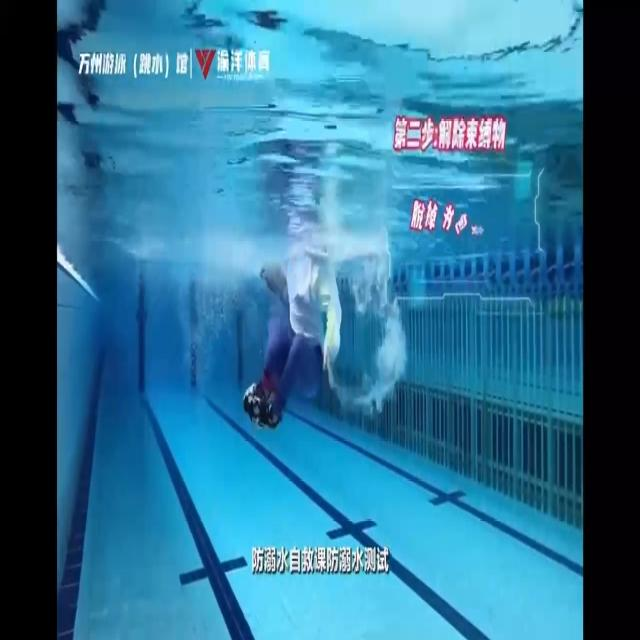Drowning: (241, 236, 391, 436)
